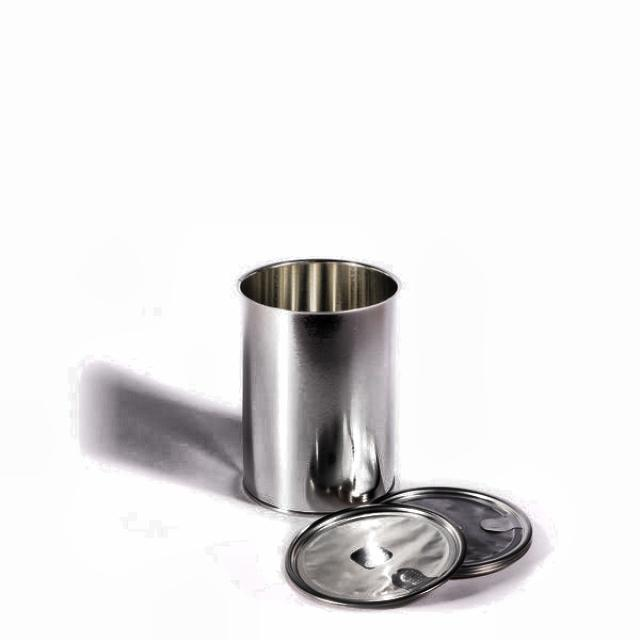can: (230, 256, 398, 509), (283, 500, 471, 610), (372, 483, 536, 579)
